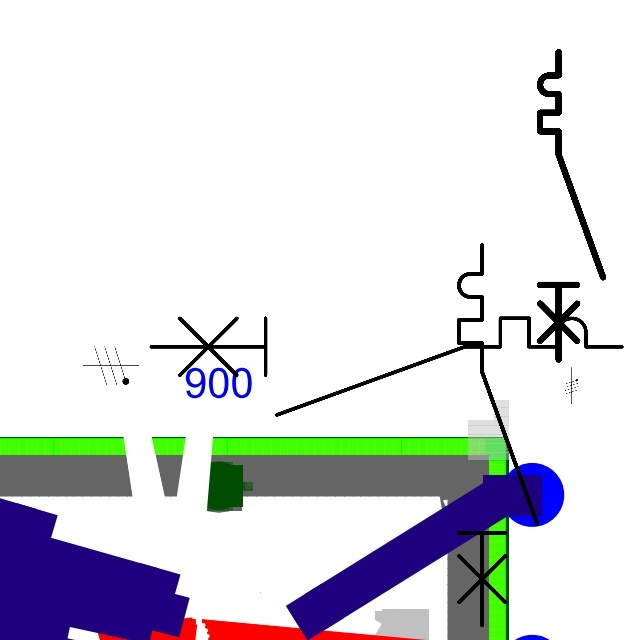interruptor_termomagnetico: (139, 306, 634, 427), (449, 235, 547, 635), (532, 44, 611, 367)
